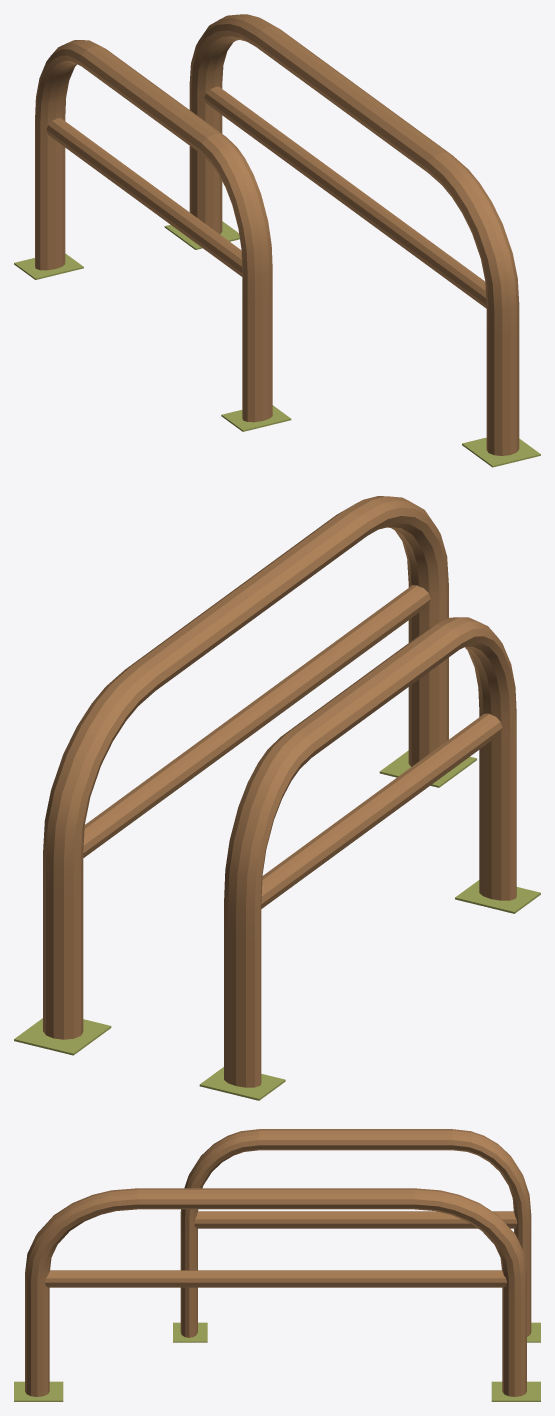
The model's file is Street_bar.fbx.
3 renders of one model, top to bottom at view 1: azimuth 30°, elevation 25°; view 2: azimuth 150°, elevation 25°; view 3: azimuth 270°, elevation 25°, orthographic. The views are drawn at different scales.
Visible parts, largest first — view 1: Street_bar_2, Street_bar_1; view 2: Street_bar_2, Street_bar_1; view 3: Street_bar_2, Street_bar_1.
Boxes of the visible parts, x1,y1,x2,y2 form: Street_bar_2: (164, 14, 540, 467); Street_bar_1: (14, 40, 291, 431); Street_bar_2: (14, 496, 476, 1055); Street_bar_1: (199, 617, 540, 1100); Street_bar_2: (14, 1188, 540, 1401); Street_bar_1: (173, 1129, 540, 1342).
Bounding box in the file's own units: 2 × 2.43 × 5.7.
